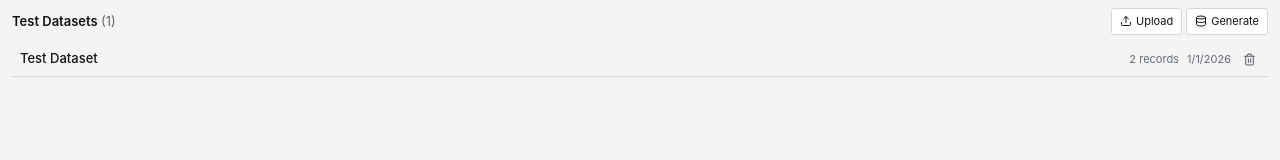
it: [@schema-datasets] SchemaDatasets › delete last dataset shows empty state
The image size is (1280, 160).
Click the button named "Delete Test Dataset" at (1250, 59), box x1=1239 y1=48 x2=1260 y2=70
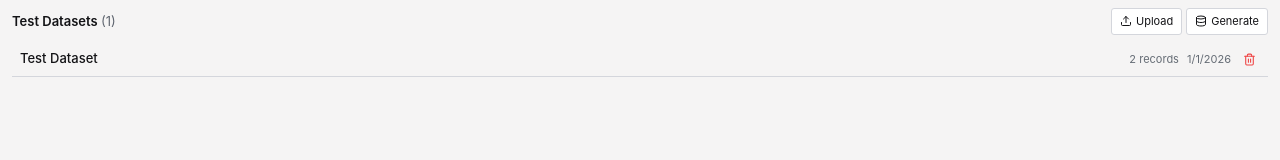
Click the button named "Delete Test Dataset" at (1250, 59), box x1=1239 y1=48 x2=1260 y2=70
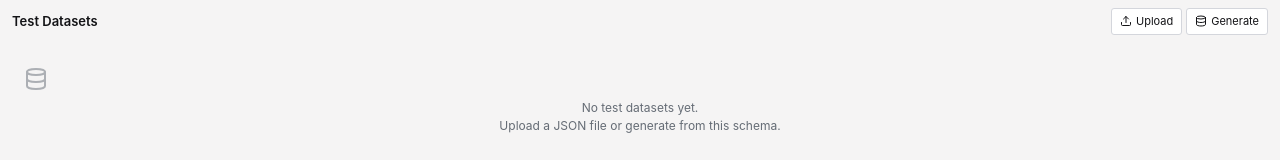
Expected: the text "No test datasets yet." is shown, x1=582 y1=100 x2=698 y2=114
